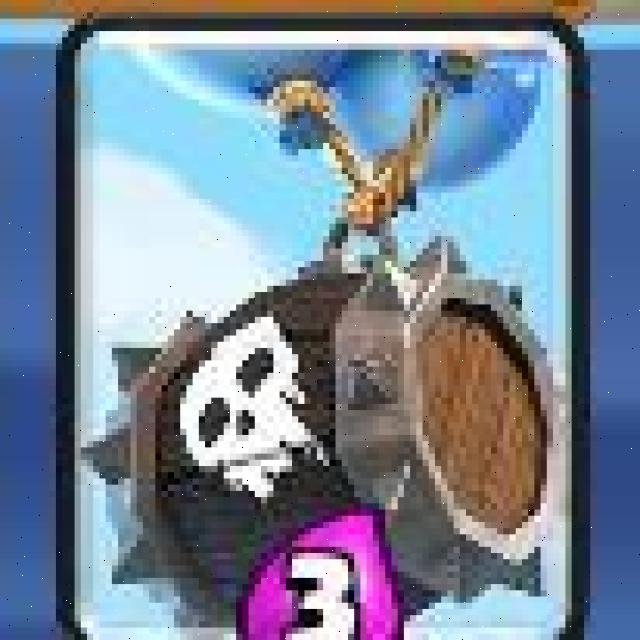Skeleton_Barrel: (61, 11, 586, 640)
